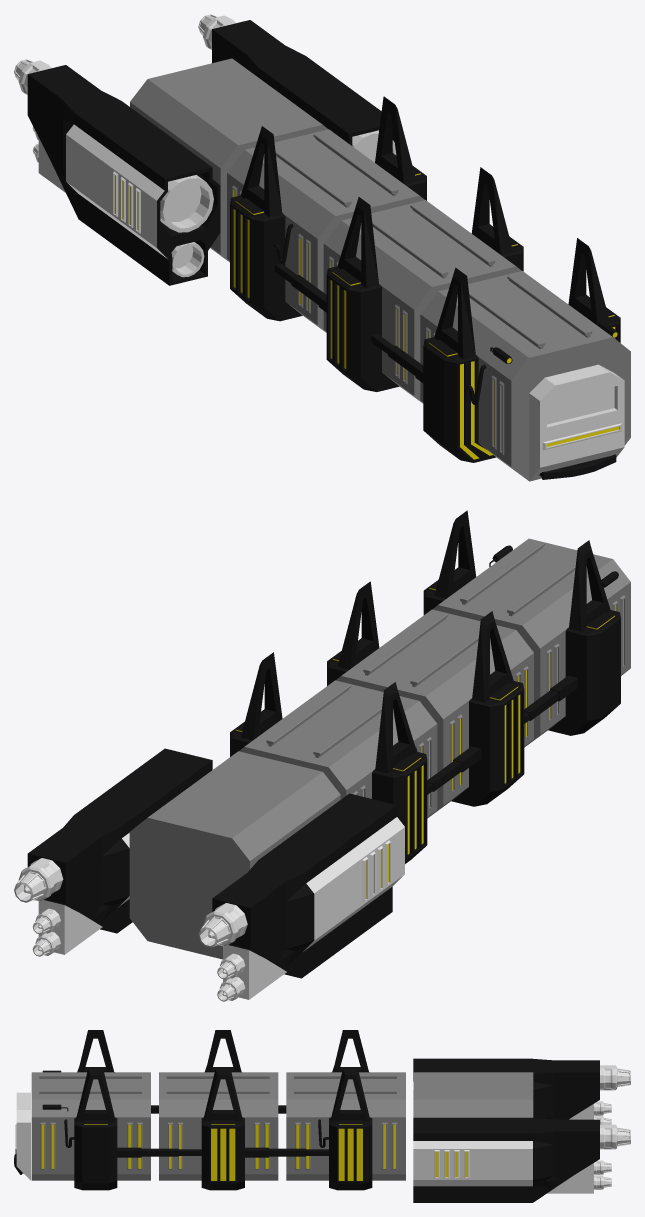
The model's file is SNSS_CargoShip.fbx.
3 views of the same model, one above another, from view 1: azimuth 30°, elevation 25°; view 2: azimuth 150°, elevation 25°; view 3: azimuth 270°, elevation 25° (orthographic). The views are drawn at different scales.
Visible parts, largest first — view 1: CargoShip; view 2: CargoShip; view 3: CargoShip.
Boxes of the visible parts, x1,y1,x2,y2 form: CargoShip: [14, 14, 630, 481]; CargoShip: [14, 510, 630, 1001]; CargoShip: [14, 1030, 630, 1202].
Size of the model in its own units: 3904 by 2646 by 12592.
